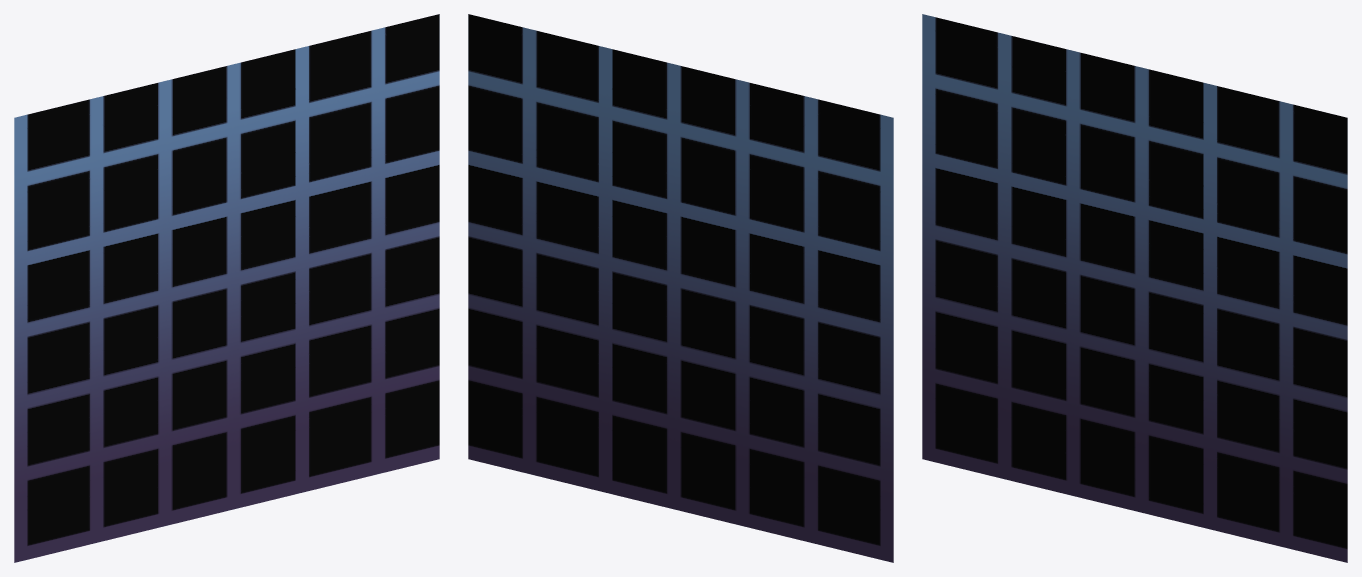
File: assets.FBX
3 views of the same model, side by side, from view 1: azimuth 30°, elevation 25°; view 2: azimuth 150°, elevation 25°; view 3: azimuth 330°, elevation 25° (orthographic).
Parts seen in each view (by area): view 1: plane_grid; view 2: plane_grid; view 3: plane_grid.
Boxes of the visible parts, bbox=[...] form: plane_grid: bbox=[14, 14, 439, 562]; plane_grid: bbox=[468, 14, 893, 562]; plane_grid: bbox=[922, 14, 1347, 562].
Size of the model in its own units: 1.4 by 1.4 by 1.22e-07.
1 material, 1 textured.
